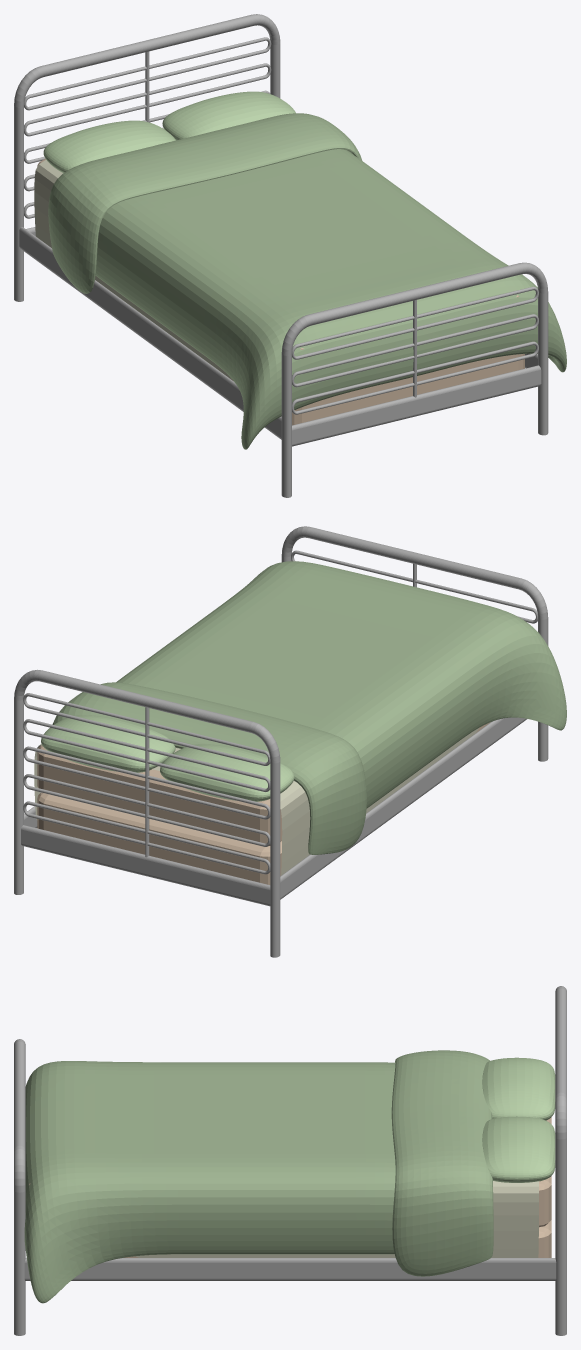
The model's file is bed1.obj.
The picture shows the model from 3 angles, top to bottom: view 1: azimuth 30°, elevation 25°; view 2: azimuth 150°, elevation 25°; view 3: azimuth 270°, elevation 25°; orthographic projection.
Visible parts, largest first — view 1: Plane.003_Plane.004, Circle, Cube.009_Cube.010, Cube.008_Cube.006, Cube.010_Cube.011, Plane.004_Plane.005; view 2: Plane.003_Plane.004, Circle, Cube.008_Cube.006, Cube.007_Cube.004, Cube.010_Cube.011, Cube.009_Cube.010, Plane.004_Plane.005; view 3: Plane.003_Plane.004, Circle, Plane.004_Plane.005, Cube.010_Cube.011, Cube.009_Cube.010, Cube.007_Cube.004, Cube.008_Cube.006.
Part boxes in pixels (x1,y1,x2,y2): Plane.003_Plane.004: [48, 113, 566, 449]; Circle: [14, 14, 548, 497]; Cube.009_Cube.010: [43, 120, 175, 172]; Cube.008_Cube.006: [231, 354, 524, 425]; Cube.010_Cube.011: [162, 91, 295, 140]; Plane.004_Plane.005: [34, 160, 231, 378]; Plane.003_Plane.004: [52, 561, 566, 854]; Circle: [14, 526, 548, 957]; Cube.008_Cube.006: [37, 722, 490, 884]; Cube.007_Cube.004: [37, 745, 282, 845]; Cube.010_Cube.011: [41, 715, 175, 772]; Cube.009_Cube.010: [160, 744, 294, 801]; Plane.004_Plane.005: [34, 728, 478, 875]; Plane.003_Plane.004: [24, 1050, 493, 1303]; Circle: [14, 986, 566, 1335]; Plane.004_Plane.005: [136, 1181, 538, 1257]; Cube.010_Cube.011: [482, 1116, 555, 1182]; Cube.009_Cube.010: [482, 1057, 555, 1120]; Cube.007_Cube.004: [29, 1077, 551, 1227]; Cube.008_Cube.006: [123, 1220, 551, 1257].
Bounding box in the file's own units: 141 × 95.46 × 208.
